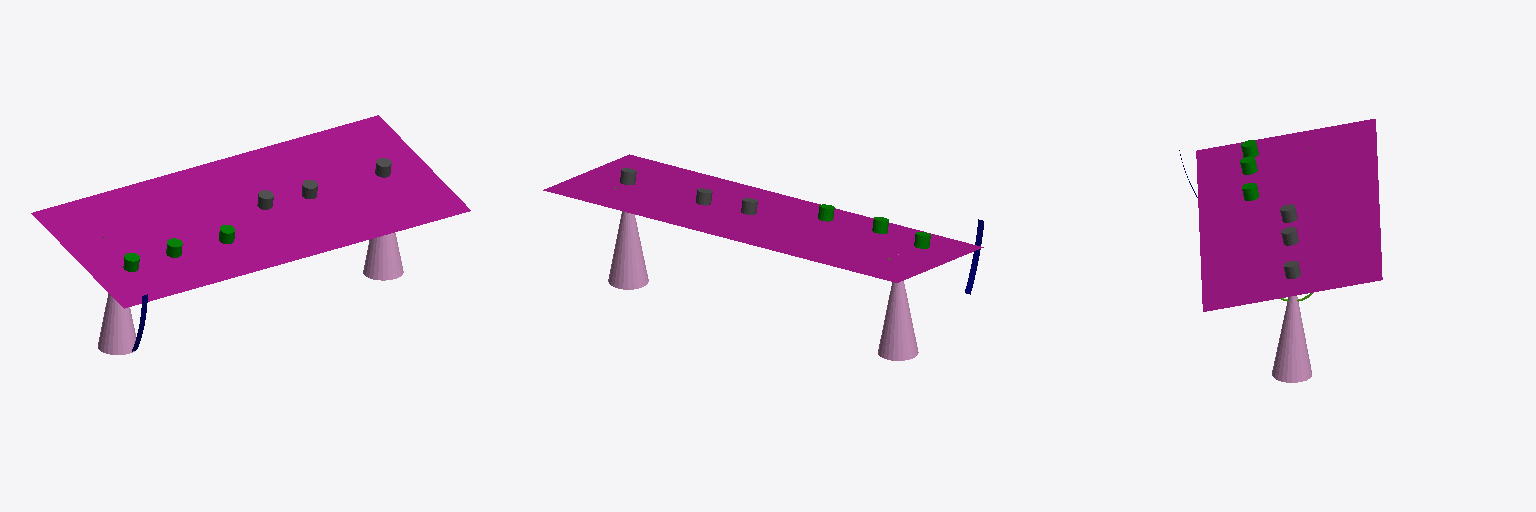
3 renders of one model, left to right at view 1: azimuth 30°, elevation 25°; view 2: azimuth 150°, elevation 25°; view 3: azimuth 270°, elevation 25°, orthographic.
Visible parts, largest first — view 1: Plane001, Cone005, Cone006; view 2: Plane001, Cone005, Cone006; view 3: Plane001, Cone006.
Boxes of the visible parts, x1=… form: Plane001: x1=31, y1=115, x2=470, y2=308; Cone005: x1=98, y1=293, x2=135, y2=354; Cone006: x1=363, y1=233, x2=403, y2=280; Plane001: x1=543, y1=154, x2=983, y2=282; Cone005: x1=878, y1=254, x2=918, y2=360; Cone006: x1=608, y1=211, x2=648, y2=289; Plane001: x1=1196, y1=119, x2=1382, y2=311; Cone006: x1=1272, y1=296, x2=1311, y2=382.
Bounding box in the file's own units: 119 × 39.08 × 59.77.